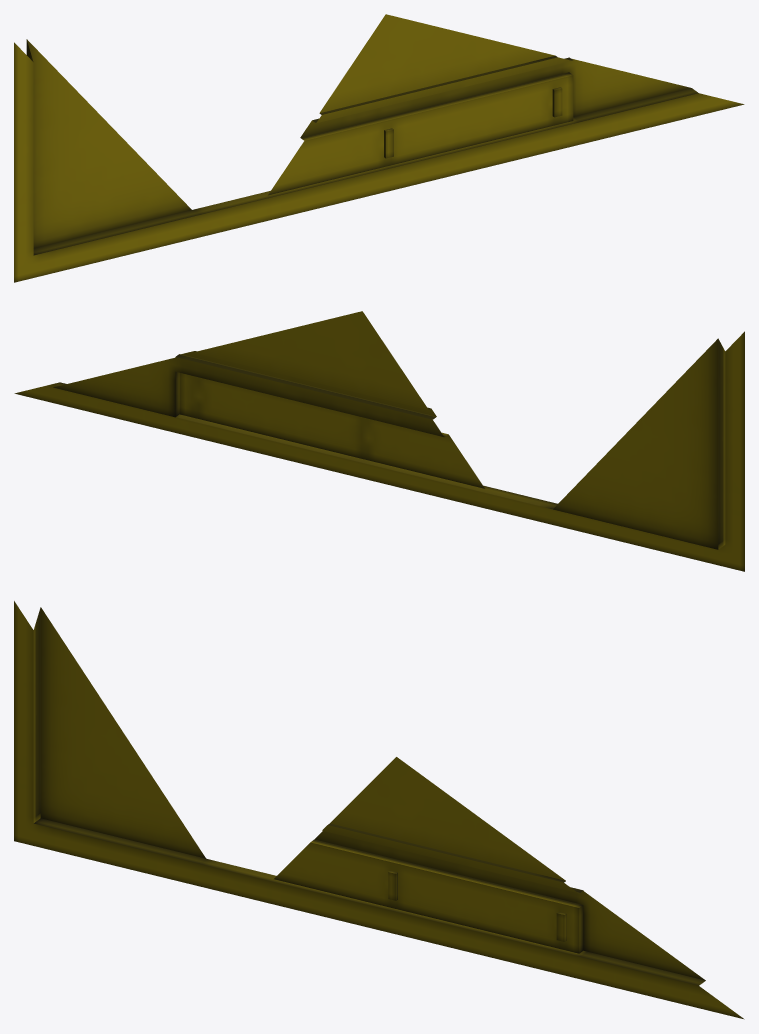
The model's file is sc_finalBoss_slideDoorA_destroyed_B.FBX.
3 renders of one model, top to bottom at view 1: azimuth 30°, elevation 25°; view 2: azimuth 150°, elevation 25°; view 3: azimuth 330°, elevation 25°, orthographic.
Visible parts, largest first — view 1: finalBoss_slideDoorA_destroyed_B; view 2: finalBoss_slideDoorA_destroyed_B; view 3: finalBoss_slideDoorA_destroyed_B.
Boxes of the visible parts, bbox=[...] form: finalBoss_slideDoorA_destroyed_B: bbox=[14, 14, 744, 282]; finalBoss_slideDoorA_destroyed_B: bbox=[14, 311, 744, 571]; finalBoss_slideDoorA_destroyed_B: bbox=[14, 601, 744, 1019].
Size of the model in its own units: 24.22 by 7.62 by 0.4074.
